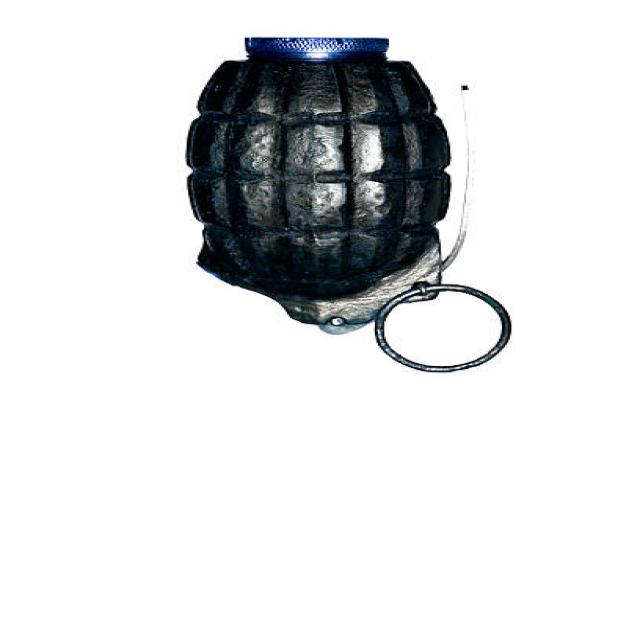grenade: (160, 25, 535, 379)
